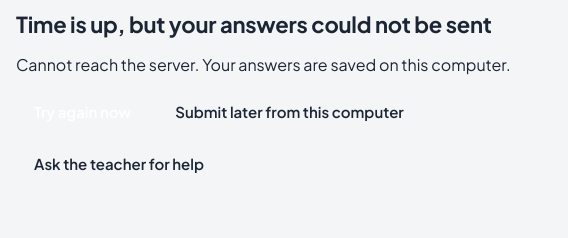
sealed offline submit (S5) › a failed seal says so and keeps the buttons
This screenshot has width=568, height=238.
Click the button "Submit later from this computer".
click(290, 112)  # box [157,90,422,134]
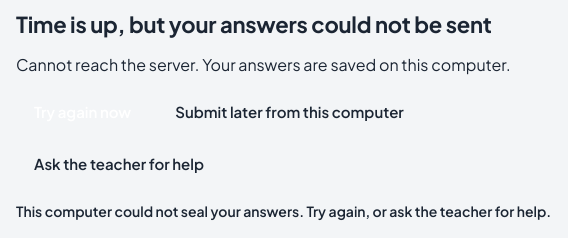
Check: the text "could not seal your answers" is shown, box [16,202,551,220]
